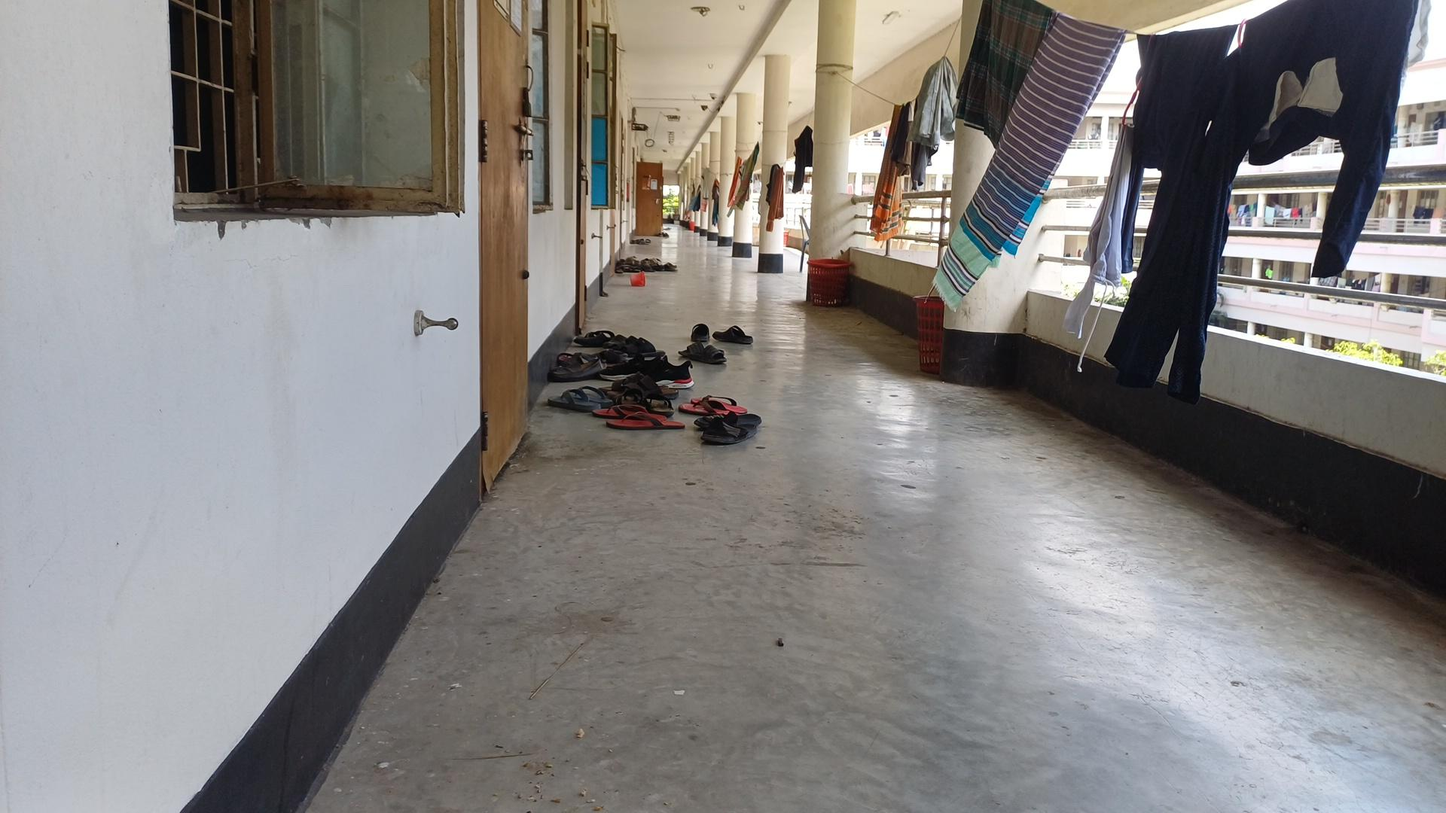Basket: (903, 289, 951, 372), (808, 252, 848, 304)
Door: (467, 0, 568, 499), (636, 161, 683, 243)
Footwear: (605, 349, 698, 392), (598, 395, 683, 436), (698, 408, 761, 455), (688, 313, 746, 344)
Towel: (949, 26, 1077, 322)
